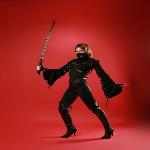Pedang: (34, 14, 62, 76)
